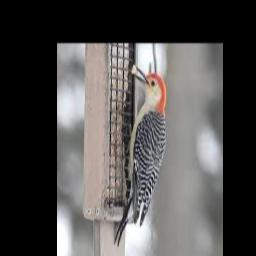Woodpecker: (114, 66, 166, 246)
